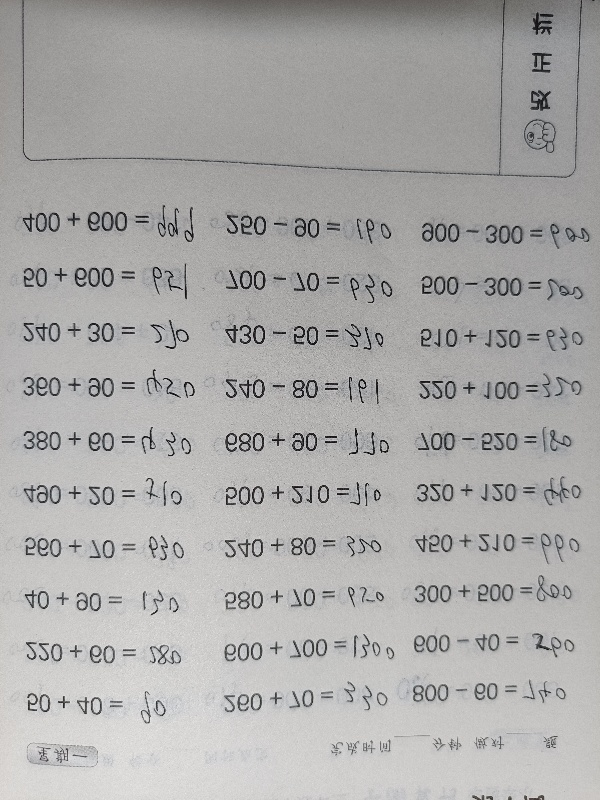equation: (18, 199, 198, 245), (217, 265, 397, 310), (14, 361, 194, 406), (14, 417, 194, 462), (408, 472, 588, 517), (407, 522, 587, 567), (215, 675, 395, 720), (15, 469, 195, 513), (216, 314, 396, 356), (410, 418, 590, 460), (405, 568, 585, 610), (215, 627, 395, 669), (412, 213, 592, 254), (410, 368, 590, 409), (216, 368, 396, 409), (17, 527, 197, 568), (411, 321, 591, 360), (216, 475, 396, 514), (403, 673, 583, 711), (217, 209, 397, 246), (412, 270, 592, 307), (215, 423, 395, 460), (216, 528, 396, 565), (216, 580, 396, 617), (15, 260, 195, 295), (15, 315, 195, 350), (16, 584, 196, 619), (405, 627, 585, 661), (17, 637, 197, 671), (18, 688, 198, 722)
